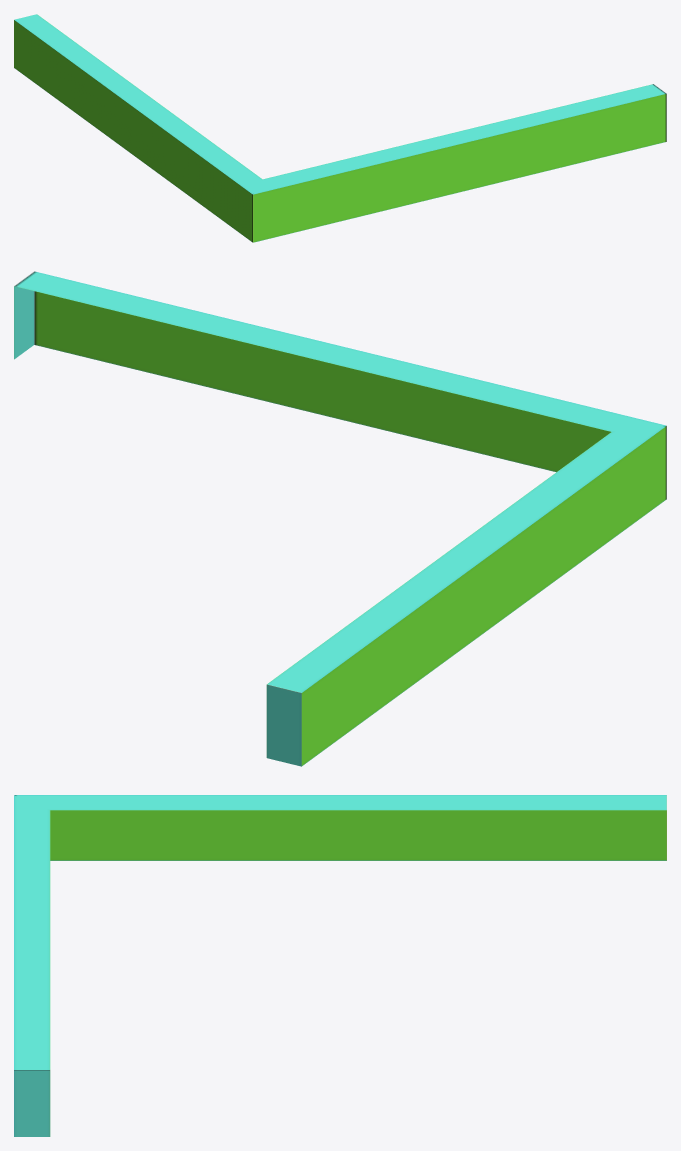
The model's file is MK_Wall_Trim_D_Corner_Out.fbx.
The picture shows the model from 3 angles, top to bottom: view 1: azimuth 30°, elevation 25°; view 2: azimuth 150°, elevation 25°; view 3: azimuth 270°, elevation 25°; orthographic projection. The views are drawn at different scales.
Parts seen in each view (by area): view 1: Wall_Trim_D_Corner_Out; view 2: Wall_Trim_D_Corner_Out; view 3: Wall_Trim_D_Corner_Out.
Boxes of the visible parts, <box> form: Wall_Trim_D_Corner_Out: <box>14,14,666,242</box>; Wall_Trim_D_Corner_Out: <box>14,271,666,766</box>; Wall_Trim_D_Corner_Out: <box>14,795,666,1136</box>.
Bounding box in the file's own units: 203 × 22.5 × 202.
1 material, 1 textured.
